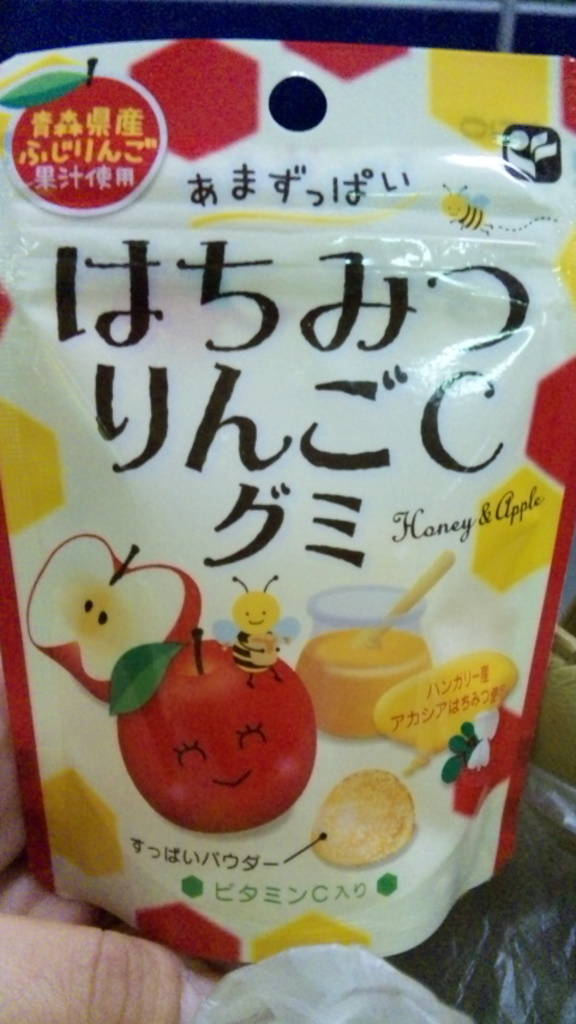Apple: (118, 652, 313, 842), (28, 528, 205, 703)
